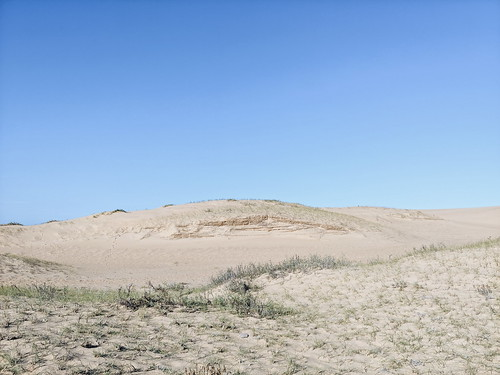mountain: (110, 178, 375, 249)
sky: (1, 1, 494, 200)
